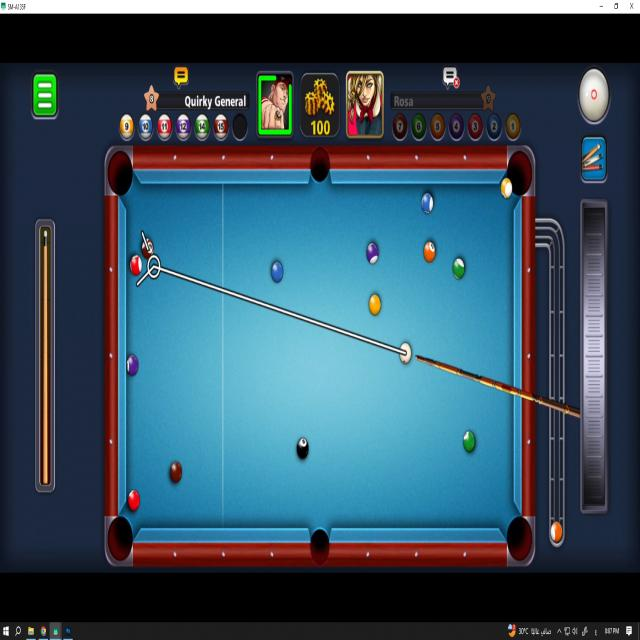object_ball: (296, 438, 308, 460), (452, 258, 464, 280), (424, 241, 436, 263), (366, 243, 378, 264), (463, 431, 475, 452), (271, 262, 283, 283), (170, 462, 182, 482), (127, 355, 138, 375), (142, 239, 153, 259), (130, 255, 141, 275), (369, 295, 380, 315), (422, 193, 433, 213), (501, 178, 512, 198), (128, 491, 139, 510)
white_cue_ball: (400, 343, 411, 363)
